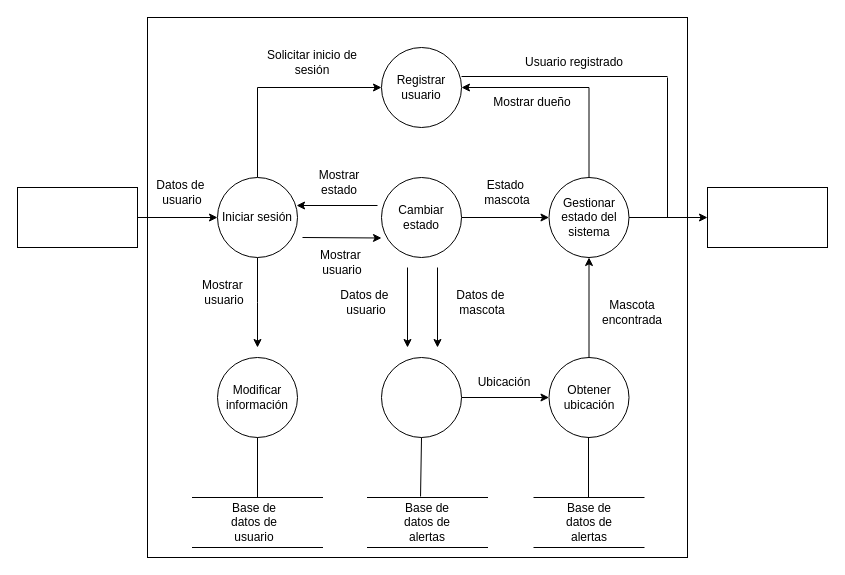
The diagram is 845 pixels wide and 575 high, and some of its shapes have lost their labels. Each missing label, with the box of its shape:
Generar alerta: (380, 356, 462, 438)
Municipio de Oro Verde: (706, 186, 828, 248)
Usuario: (16, 186, 138, 248)
